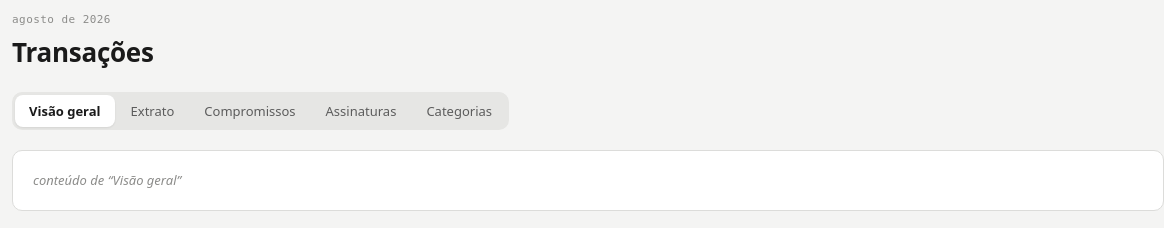
TelaTransacoes › troca o conteúdo ao selecionar outro segmento
Click the tab "Categorias" at point(459, 110), box [412,94,506,126]
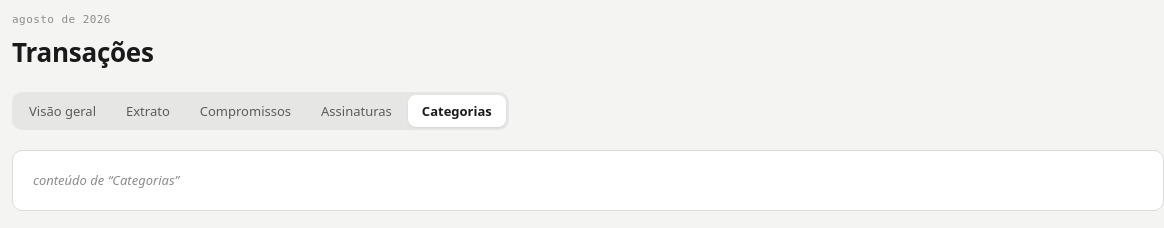
Check: the text "conteúdo de “Categorias”" is shown, box [33,170,179,188]
